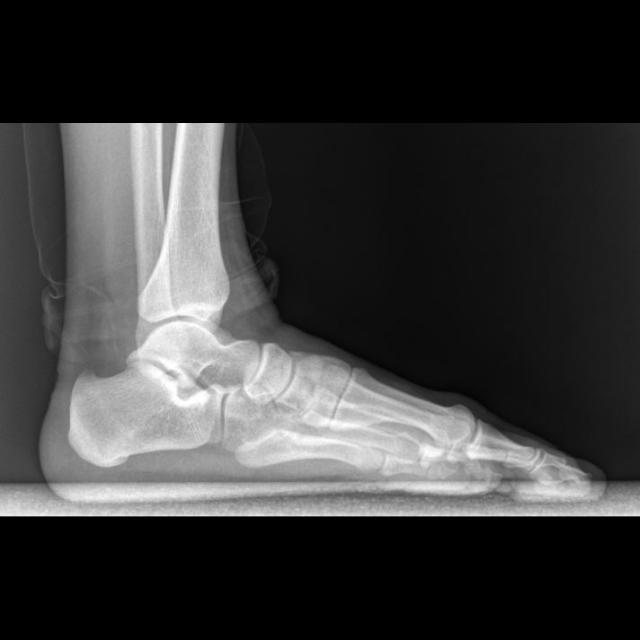a: (69, 363, 225, 471)
b: (245, 341, 294, 406)
c: (334, 369, 475, 448)
